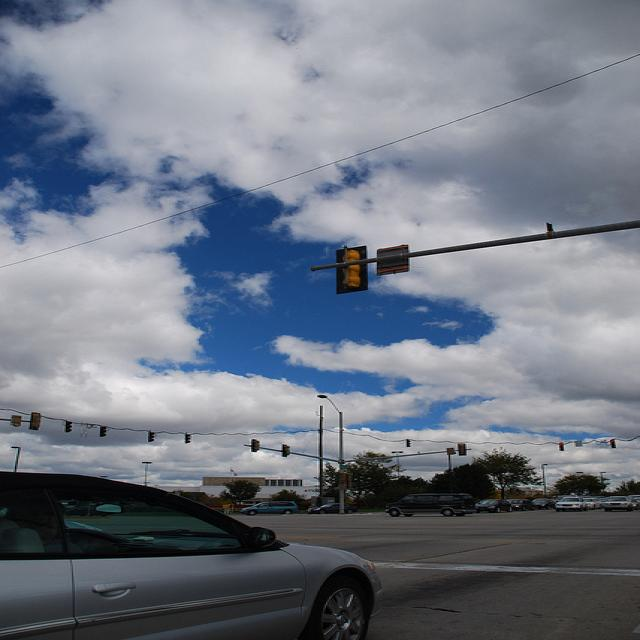Vehicle: (0, 471, 383, 640), (383, 492, 479, 518), (241, 502, 301, 516), (312, 503, 358, 514), (476, 500, 512, 514), (555, 497, 588, 512), (604, 496, 632, 512), (508, 499, 536, 510), (582, 497, 604, 510), (532, 499, 556, 510), (629, 498, 640, 510)
